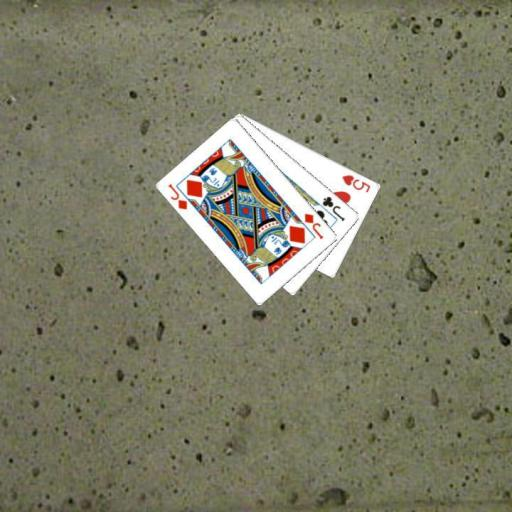5H: (339, 172, 373, 195)
JC: (320, 193, 347, 223)
JD: (301, 210, 325, 240), (165, 181, 189, 211)
